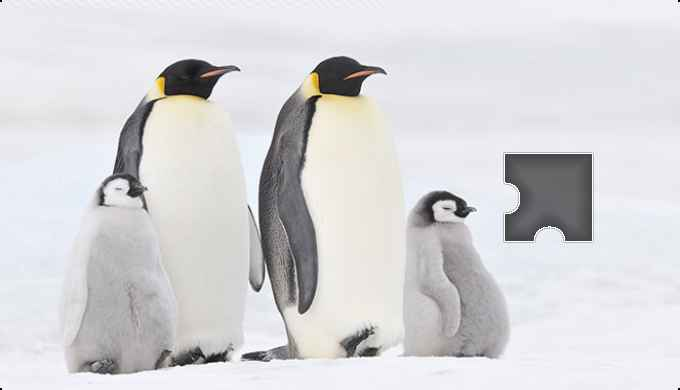gap: (504, 154, 594, 241)
